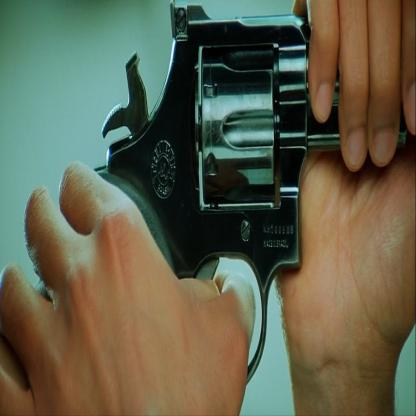gun: (53, 7, 347, 333)
